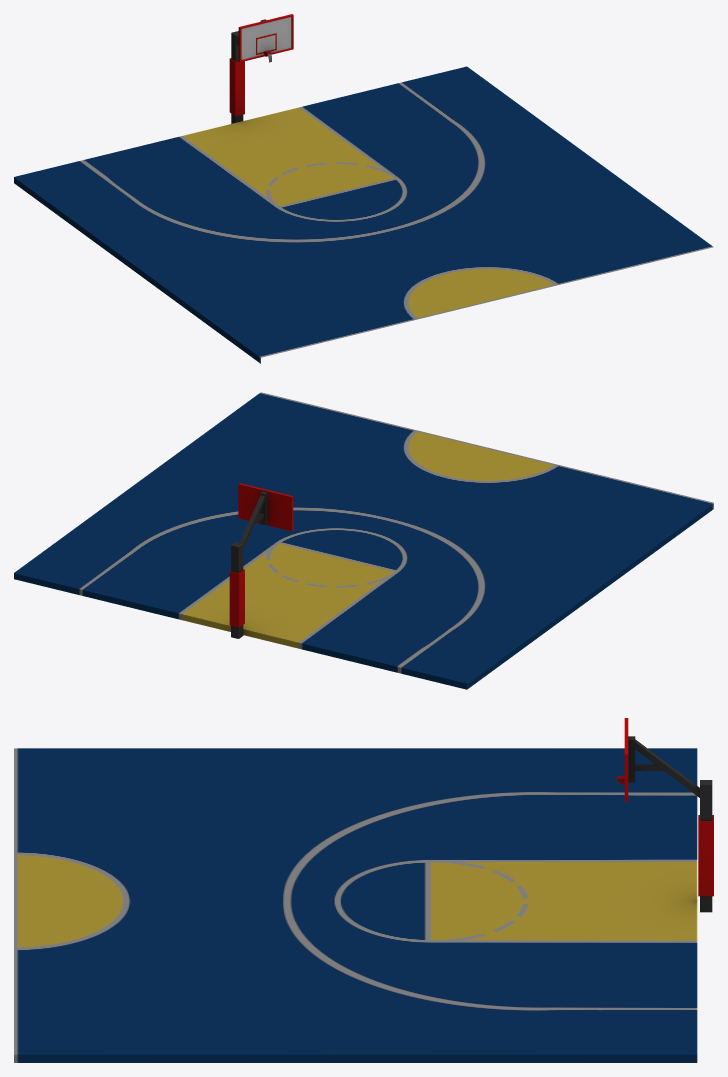
The model's file is Basketball court.glb.
3 renders of one model, top to bottom at view 1: azimuth 30°, elevation 25°; view 2: azimuth 150°, elevation 25°; view 3: azimuth 270°, elevation 25°, orthographic. The views are drawn at different scales.
Parts seen in each view (by area): view 1: BasketBallCourt_Mesh.389, BasketBallCourt_Mesh.388, BasketBallCourt_Mesh.196; view 2: BasketBallCourt_Mesh.389, BasketBallCourt_Mesh.195, BasketBallCourt_Mesh.388, BasketBallCourt_Mesh.198, BasketBallCourt_Mesh.362; view 3: BasketBallCourt_Mesh.389, BasketBallCourt_Mesh.386, BasketBallCourt_Mesh.363.
Part boxes in pixels (x1,y1,x2,y2): BasketBallCourt_Mesh.389: (14, 66, 713, 357); BasketBallCourt_Mesh.388: (14, 177, 260, 363); BasketBallCourt_Mesh.196: (241, 17, 291, 59); BasketBallCourt_Mesh.389: (14, 392, 713, 683); BasketBallCourt_Mesh.195: (14, 573, 466, 689); BasketBallCourt_Mesh.388: (467, 503, 713, 689); BasketBallCourt_Mesh.198: (238, 484, 291, 531); BasketBallCourt_Mesh.362: (229, 571, 239, 627); BasketBallCourt_Mesh.389: (14, 748, 697, 1054); BasketBallCourt_Mesh.386: (14, 1054, 697, 1062); BasketBallCourt_Mesh.363: (698, 821, 713, 896).
Bounding box in the file's own units: 15.2 × 4.03 × 14.7.
1 material, 1 textured.
